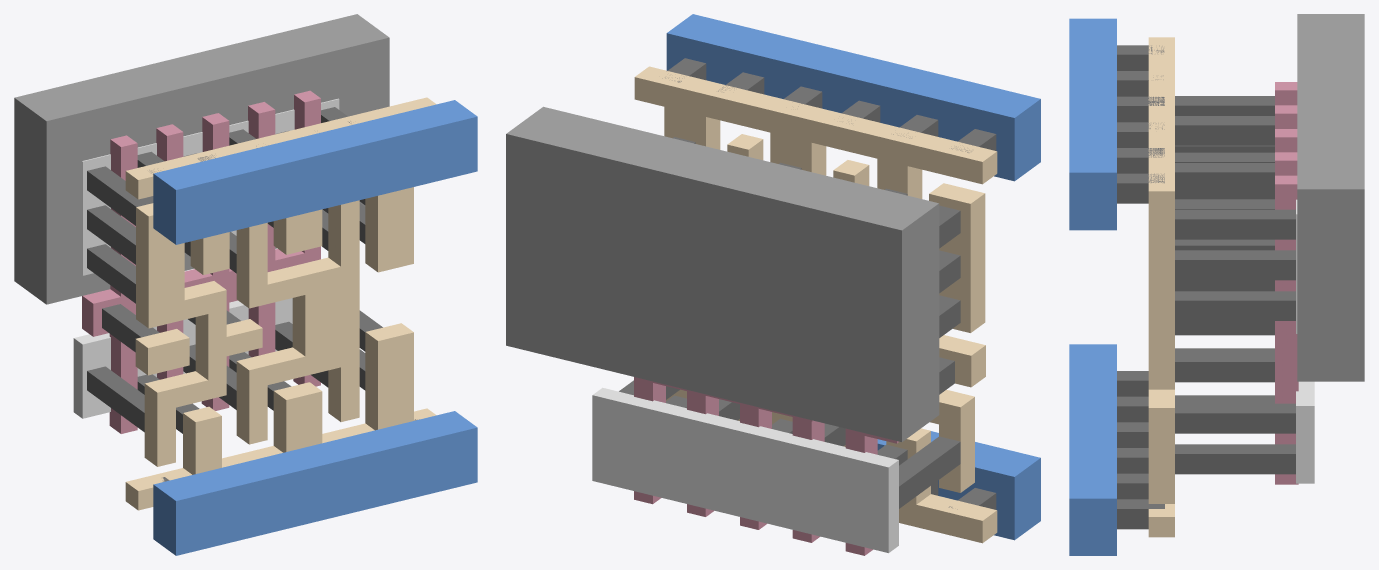
Rendered from sky130_fd_sc_hd__buf_4.gds.gltf.
The picture shows the model from 3 angles, left to right: view 1: azimuth 30°, elevation 25°; view 2: azimuth 150°, elevation 25°; view 3: azimuth 270°, elevation 25°; orthographic projection. The views are drawn at different scales.
Parts seen in each view (by area): view 1: sky130_fd_sc_hd__buf_4_li1, sky130_fd_sc_hd__buf_4_met1, sky130_fd_sc_hd__buf_4_nwell, sky130_fd_sc_hd__buf_4_licon, sky130_fd_sc_hd__buf_4_poly, sky130_fd_sc_hd__buf_4_diff; view 2: sky130_fd_sc_hd__buf_4_nwell, sky130_fd_sc_hd__buf_4_li1, sky130_fd_sc_hd__buf_4_diff, sky130_fd_sc_hd__buf_4_met1, sky130_fd_sc_hd__buf_4_licon, sky130_fd_sc_hd__buf_4_poly, sky130_fd_sc_hd__buf_4_mcon; view 3: sky130_fd_sc_hd__buf_4_licon, sky130_fd_sc_hd__buf_4_nwell, sky130_fd_sc_hd__buf_4_met1, sky130_fd_sc_hd__buf_4_li1, sky130_fd_sc_hd__buf_4_mcon, sky130_fd_sc_hd__buf_4_poly, sky130_fd_sc_hd__buf_4_diff.
Boxes of the visible parts, bbox=[...] form: sky130_fd_sc_hd__buf_4_li1: bbox=[125, 97, 436, 510]; sky130_fd_sc_hd__buf_4_met1: bbox=[153, 100, 477, 555]; sky130_fd_sc_hd__buf_4_nwell: bbox=[14, 14, 389, 304]; sky130_fd_sc_hd__buf_4_licon: bbox=[87, 107, 382, 433]; sky130_fd_sc_hd__buf_4_poly: bbox=[82, 90, 320, 433]; sky130_fd_sc_hd__buf_4_diff: bbox=[73, 98, 339, 418]; sky130_fd_sc_hd__buf_4_nwell: bbox=[506, 106, 939, 441]; sky130_fd_sc_hd__buf_4_li1: bbox=[634, 66, 997, 543]; sky130_fd_sc_hd__buf_4_diff: bbox=[592, 387, 898, 553]; sky130_fd_sc_hd__buf_4_met1: bbox=[666, 14, 1040, 540]; sky130_fd_sc_hd__buf_4_licon: bbox=[619, 137, 960, 508]; sky130_fd_sc_hd__buf_4_poly: bbox=[634, 377, 898, 555]; sky130_fd_sc_hd__buf_4_mcon: bbox=[662, 58, 996, 509]; sky130_fd_sc_hd__buf_4_licon: bbox=[1175, 96, 1295, 474]; sky130_fd_sc_hd__buf_4_nwell: bbox=[1297, 14, 1364, 381]; sky130_fd_sc_hd__buf_4_met1: bbox=[1069, 18, 1116, 555]; sky130_fd_sc_hd__buf_4_li1: bbox=[1148, 37, 1174, 537]; sky130_fd_sc_hd__buf_4_mcon: bbox=[1117, 45, 1164, 529]; sky130_fd_sc_hd__buf_4_poly: bbox=[1275, 82, 1298, 484]; sky130_fd_sc_hd__buf_4_diff: bbox=[1296, 199, 1314, 483].
Size of the model in its own units: 3.14 by 3.2 by 2.24.
